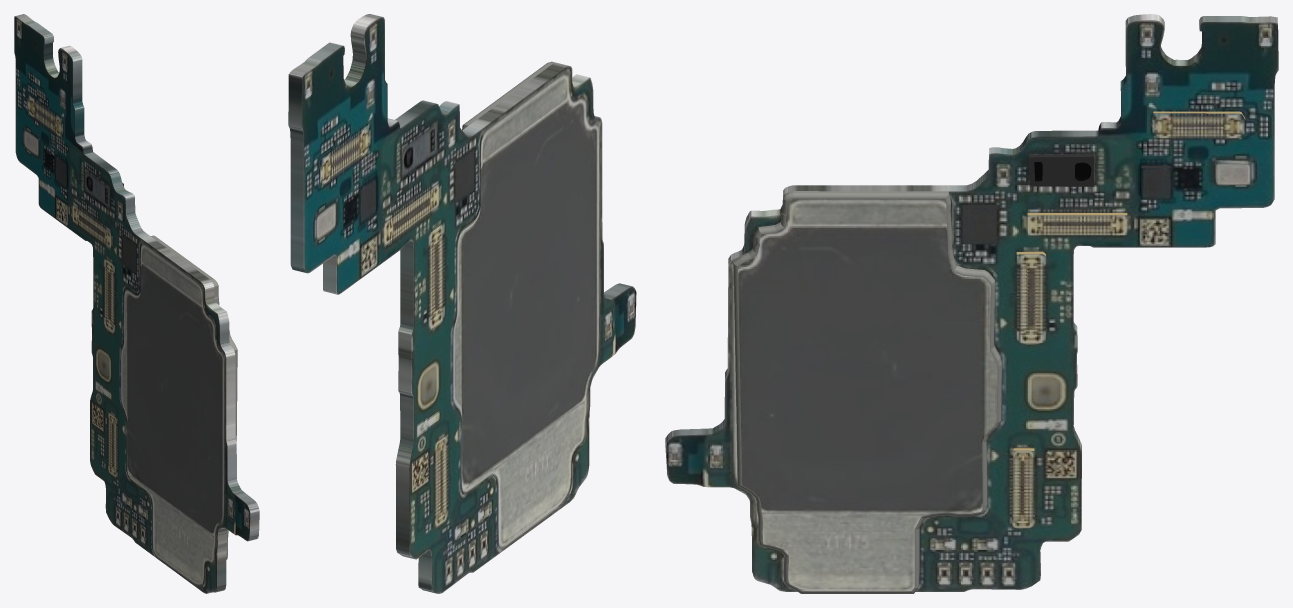
Rendered from SChip.glb.
3 renders of one model, left to right at view 1: azimuth 30°, elevation 25°; view 2: azimuth 150°, elevation 25°; view 3: azimuth 270°, elevation 25°, orthographic. The views are drawn at different scales.
Visible parts, largest first — view 1: galaxy-s24-ultra-motherboard-pcb-module-1000x1000w, galaxy-s24-ultra-motherboard-pcb-module-1000x1000w.001; view 2: galaxy-s24-ultra-motherboard-pcb-module-1000x1000w, galaxy-s24-ultra-motherboard-pcb-module-1000x1000w.001; view 3: galaxy-s24-ultra-motherboard-pcb-module-1000x1000w.001, galaxy-s24-ultra-motherboard-pcb-module-1000x1000w, galaxy-s24-ultra-motherboard-pcb-module-1000x1000w.003, galaxy-s24-ultra-motherboard-pcb-module-1000x1000w.002, galaxy-s24-ultra-motherboard-pcb-module-1000x1000w.004.
Boxes of the visible parts, bbox=[...] form: galaxy-s24-ultra-motherboard-pcb-module-1000x1000w: bbox=[14, 14, 259, 593]; galaxy-s24-ultra-motherboard-pcb-module-1000x1000w.001: bbox=[151, 235, 237, 559]; galaxy-s24-ultra-motherboard-pcb-module-1000x1000w: bbox=[288, 14, 636, 593]; galaxy-s24-ultra-motherboard-pcb-module-1000x1000w.001: bbox=[462, 61, 555, 130]; galaxy-s24-ultra-motherboard-pcb-module-1000x1000w.001: bbox=[729, 191, 1001, 593]; galaxy-s24-ultra-motherboard-pcb-module-1000x1000w: bbox=[665, 14, 1278, 591]; galaxy-s24-ultra-motherboard-pcb-module-1000x1000w.003: bbox=[962, 205, 996, 244]; galaxy-s24-ultra-motherboard-pcb-module-1000x1000w.002: bbox=[1141, 165, 1171, 199]; galaxy-s24-ultra-motherboard-pcb-module-1000x1000w.004: bbox=[1215, 160, 1250, 185].
Size of the model in its own units: 0.0224 by 0.6417 by 0.6234.
5 materials, 1 textured.
